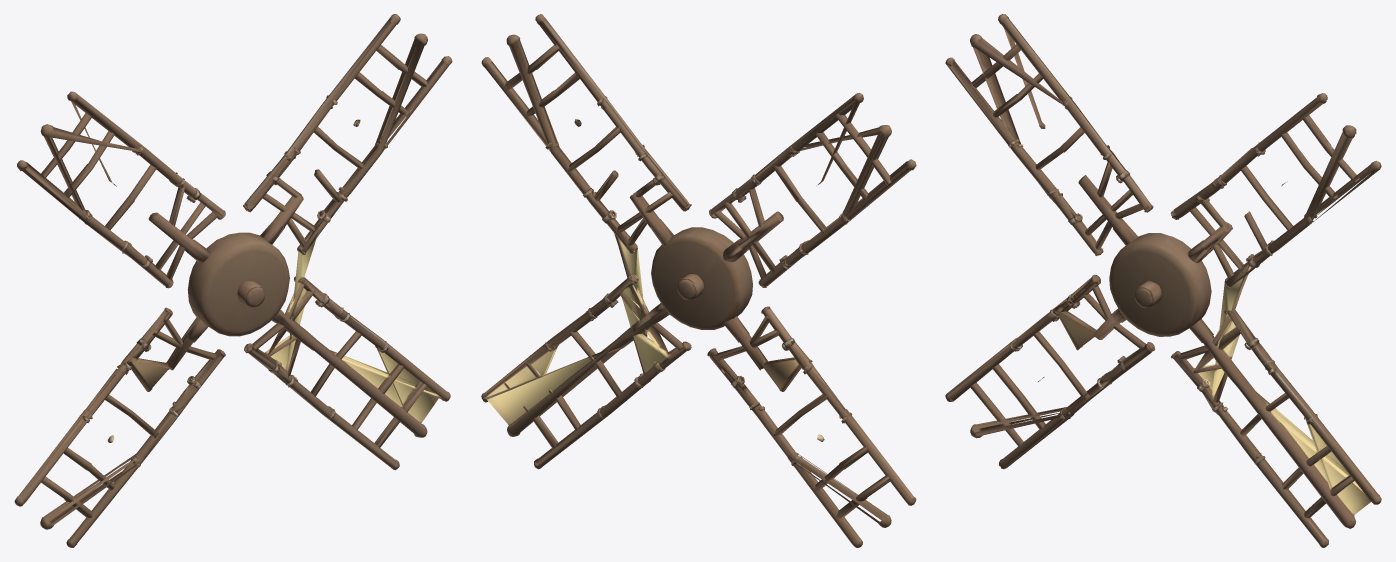
File: windmill_blades.glb
3 renders of one model, left to right at view 1: azimuth 30°, elevation 25°; view 2: azimuth 150°, elevation 25°; view 3: azimuth 330°, elevation 25°, orthographic.
Parts seen in each view (by area): view 1: tripo_node_2d008f4c-db44-4d95-b863-23a6f71ea6e5; view 2: tripo_node_2d008f4c-db44-4d95-b863-23a6f71ea6e5; view 3: tripo_node_2d008f4c-db44-4d95-b863-23a6f71ea6e5.
Boxes of the visible parts, x1,y1,x2,y2 form: tripo_node_2d008f4c-db44-4d95-b863-23a6f71ea6e5: (14,14,452,547); tripo_node_2d008f4c-db44-4d95-b863-23a6f71ea6e5: (481,14,916,547); tripo_node_2d008f4c-db44-4d95-b863-23a6f71ea6e5: (945,14,1381,547).
Size of the model in its own units: 0.998 by 0.998 by 0.1387.
Materials: 1 (1 with a texture image).
